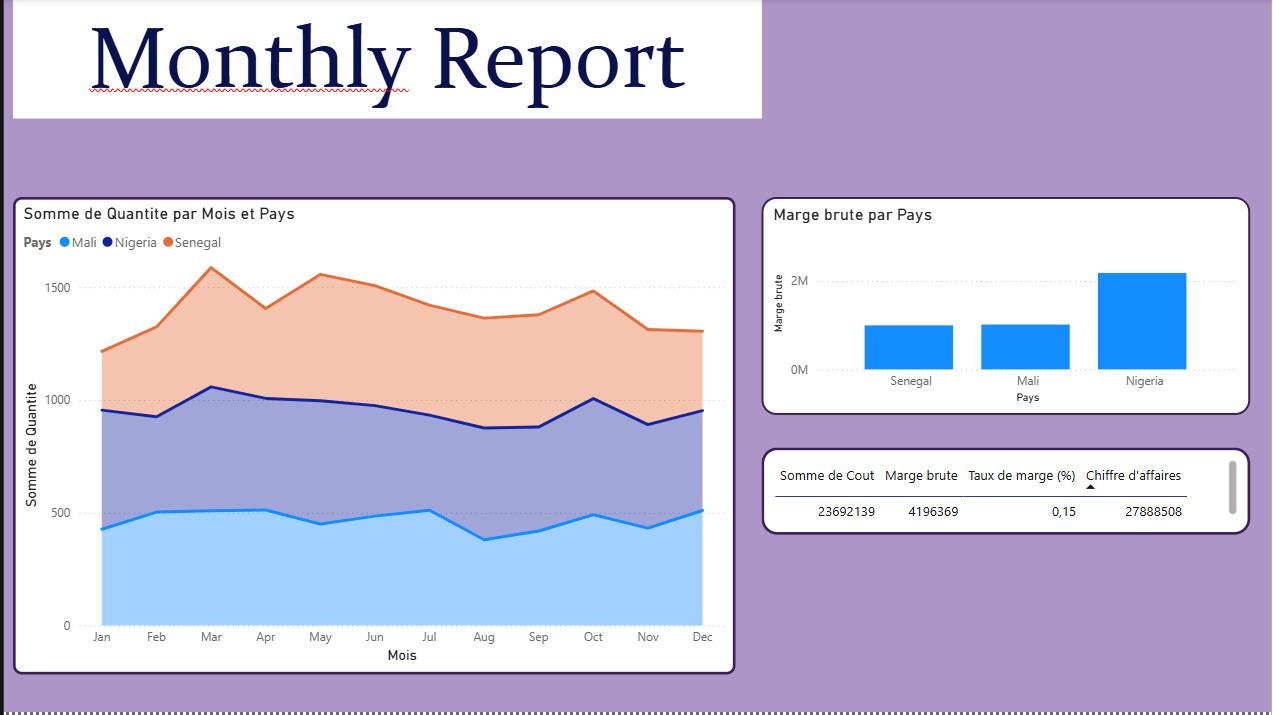

The page's visual inventory and layout, read from the dashboard file:
{"tool":"powerbi","page":{"name":"Page 1","canvas":[1280,720],"ordinal":0},"visuals":[{"type":"textbox","box":[9.4,0,755.9,120.9],"z":0},{"type":"stackedAreaChart","fields":{"Category":["Business per Country.Month"],"Series":["Business per Country.Country"],"Y":["Sum(Business per Country.Quantity)"]},"box":[9.4,200.3,729.5,481.9],"z":1000},{"type":"tableEx","fields":{"Values":["Sum(Business per Country.Cout)","Business per Country.Marge brute","Business per Country.Taux de marge (%)","Business per Country.Chiffre d'affaires"]},"box":[764.7,452.7,493.6,87.8],"z":2000},{"type":"clusteredColumnChart","fields":{"Y":["Business per Country.Marge brute"],"Category":["Business per Country.Country"]},"box":[765,200,493,220],"z":3000}]}

Visuals, with their boxes in screenshot pixels (x1, y1, x2, y2), scaled from the page's 1280x720 canvas onto the 1273x715 screenshot:
textbox: rect(9, 0, 761, 120)
stackedAreaChart - Business per Country.Month x Business per Country.Country: rect(9, 199, 735, 677)
tableEx - Sum(Business per Country.Cout) x Business per Country.Marge brute: rect(761, 450, 1251, 537)
clusteredColumnChart - Business per Country.Marge brute x Business per Country.Country: rect(761, 199, 1251, 417)
